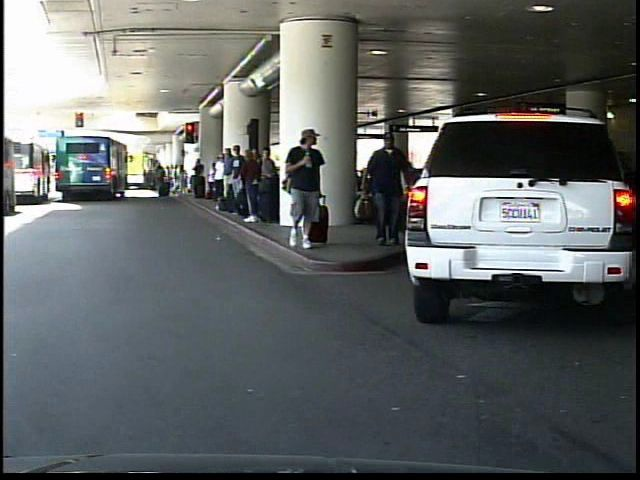person: (286, 125, 331, 250), (366, 128, 412, 249)
